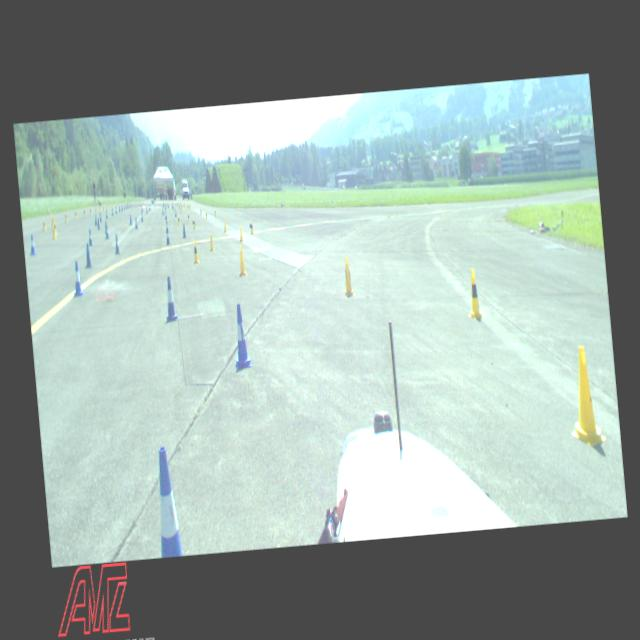blue_cone: (146, 444, 188, 558), (229, 304, 253, 368), (162, 277, 178, 322), (70, 260, 84, 297), (83, 242, 92, 268), (28, 233, 36, 256), (112, 233, 120, 253), (86, 228, 94, 245), (164, 227, 170, 245), (104, 222, 109, 238), (181, 222, 186, 237), (164, 220, 168, 233), (96, 217, 100, 229), (134, 217, 138, 228), (98, 212, 102, 222), (140, 212, 144, 221), (94, 214, 97, 225), (129, 213, 132, 224), (110, 206, 114, 214), (174, 206, 177, 216), (164, 209, 167, 219), (105, 208, 108, 218)
yellow_cone: (564, 342, 606, 448), (464, 268, 484, 320), (341, 256, 354, 298), (236, 245, 247, 276), (190, 238, 200, 264), (208, 232, 214, 250), (238, 226, 244, 242), (248, 220, 254, 233), (40, 217, 46, 230), (222, 219, 228, 232), (53, 220, 57, 235), (52, 224, 56, 238), (50, 214, 54, 228), (82, 206, 86, 216), (192, 216, 195, 229), (64, 210, 67, 222), (177, 214, 180, 225), (186, 210, 189, 221), (205, 210, 208, 219), (74, 209, 77, 218), (213, 208, 216, 216), (88, 206, 91, 213), (186, 202, 189, 208), (200, 208, 202, 215)
